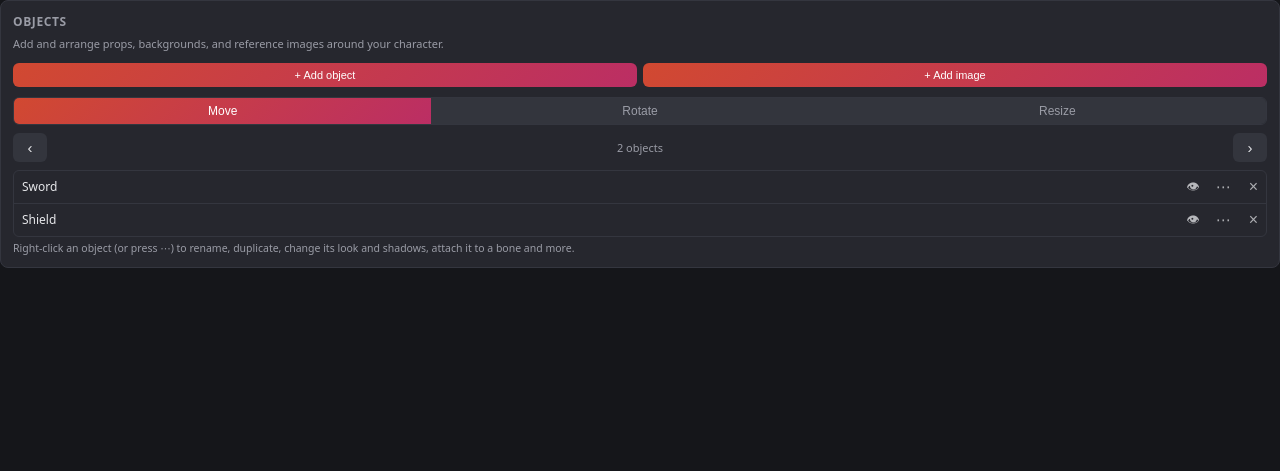
Test: Objects list menu › Rename turns the name into a text box; Enter saves, Escape cancels
Right-click the text "Sword".
right_click(640, 187)  # box x1=14 y1=170 x2=1266 y2=204
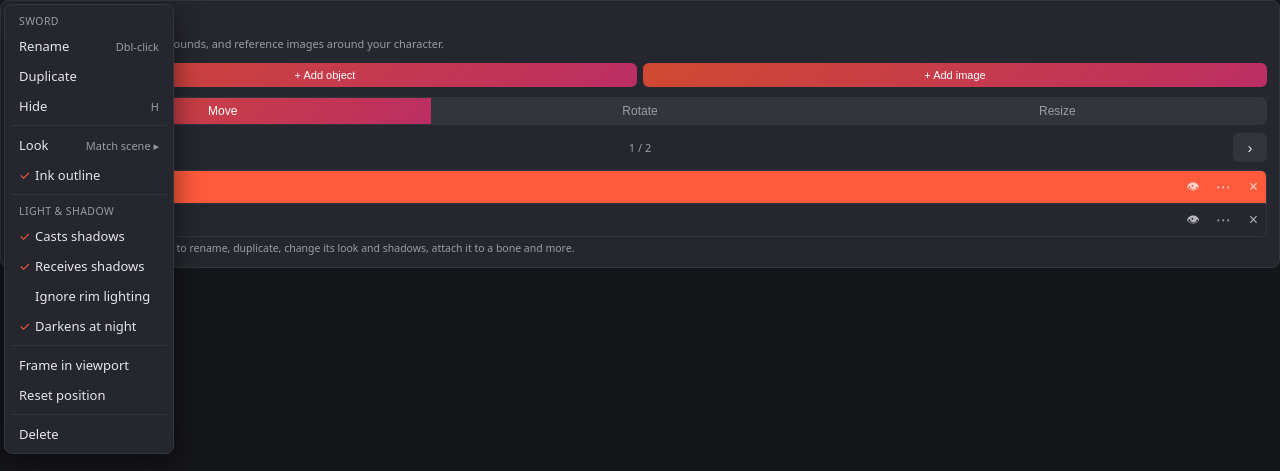
Click the menu item "Rename Dbl-click".
click(89, 46)  # box x1=9 y1=31 x2=169 y2=61
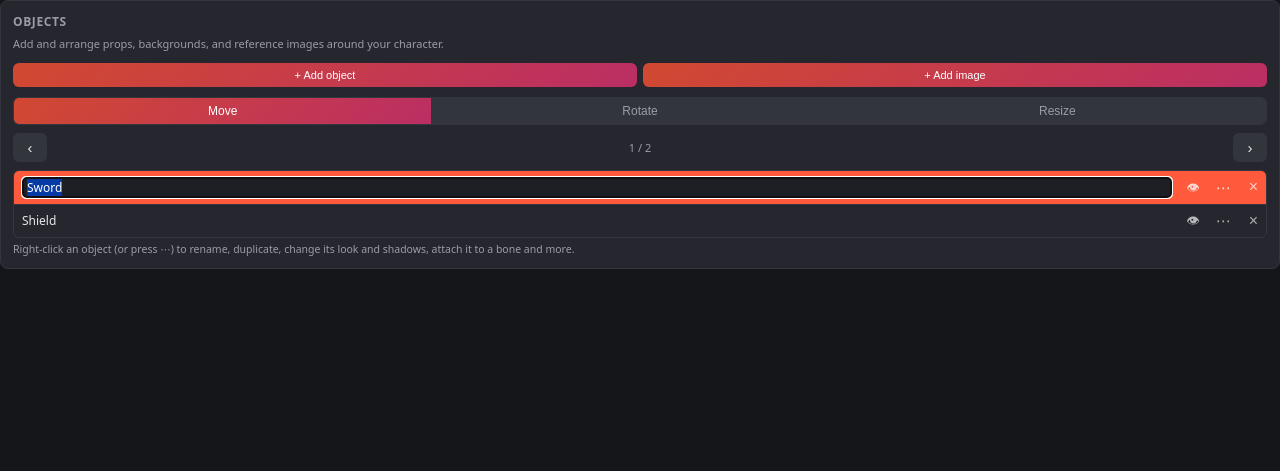
Replace the text in the field named "Name" with "Broadsword" at (597, 187), box x1=22 y1=176 x2=1172 y2=198
Press Enter in the field named "Name", box x1=22 y1=176 x2=1172 y2=198
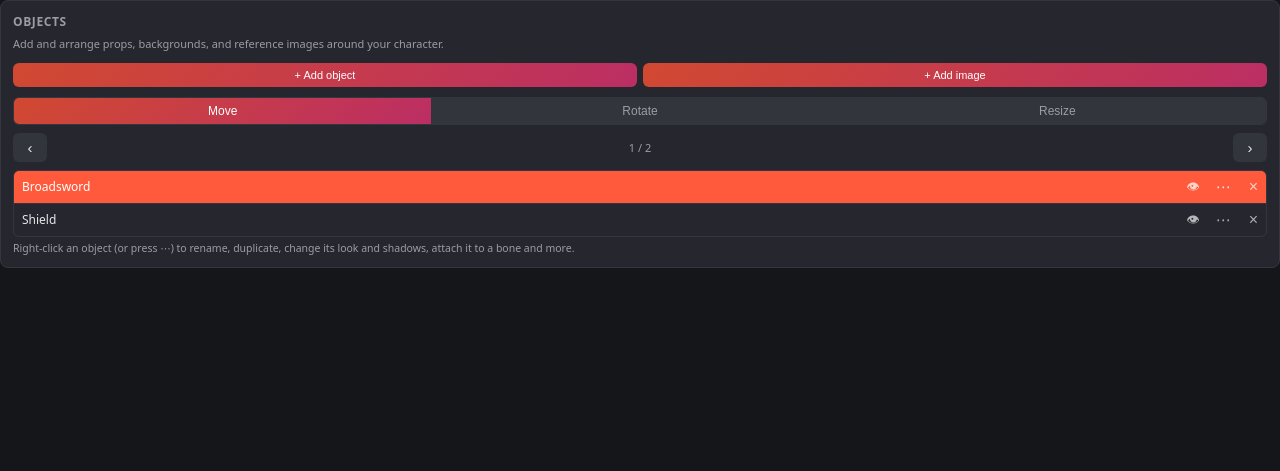
expect the text "Broadsword" is shown: met
Double-click the text "Broadsword".
double_click(56, 186)  # box x1=22 y1=178 x2=90 y2=195
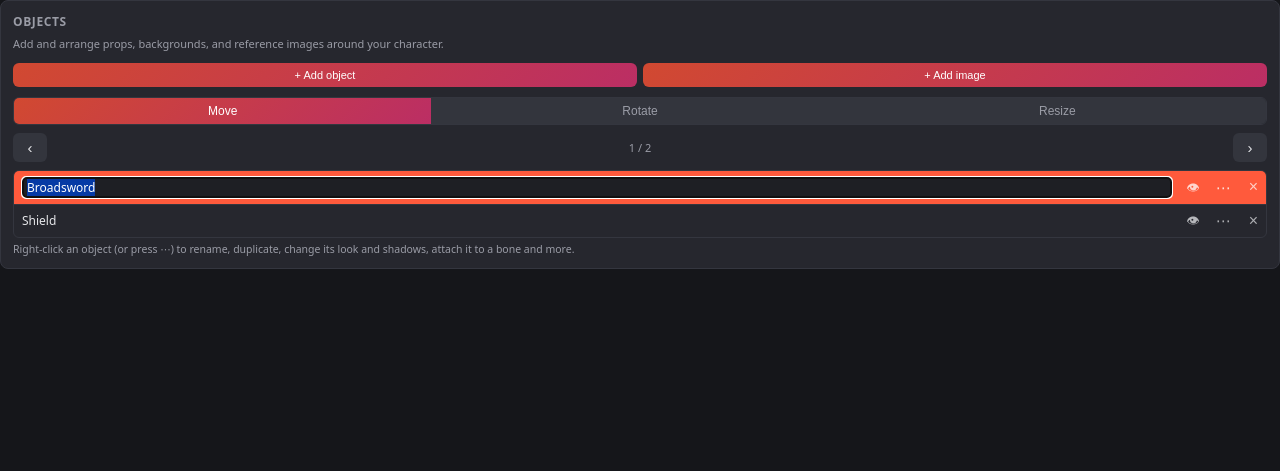
Replace the text in the field named "Name" with "Nope" at (597, 187), box x1=22 y1=176 x2=1172 y2=198
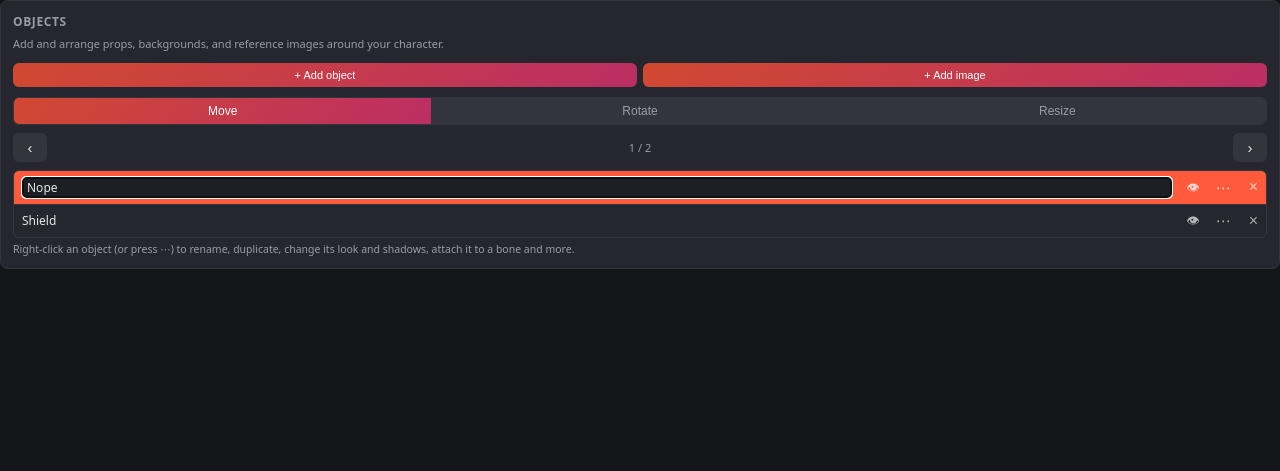
Press Escape in the field named "Name", box x1=22 y1=176 x2=1172 y2=198
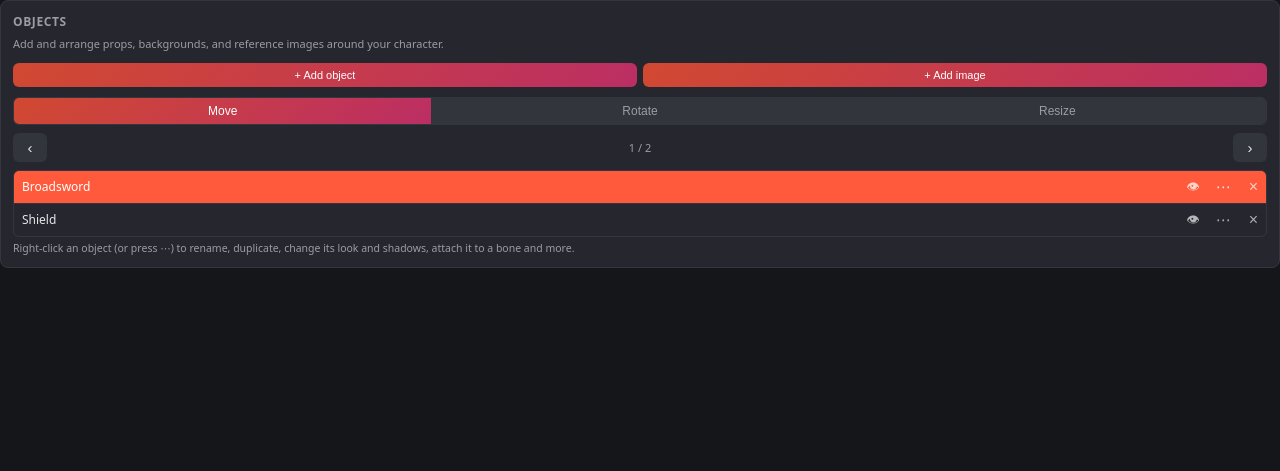
expect the text "Broadsword" is shown: met, box x1=22 y1=178 x2=90 y2=195
